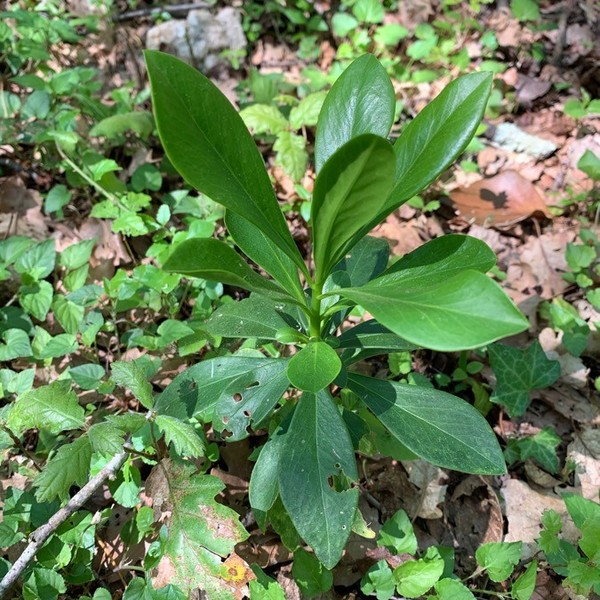obstacle: (127, 52, 532, 538)
